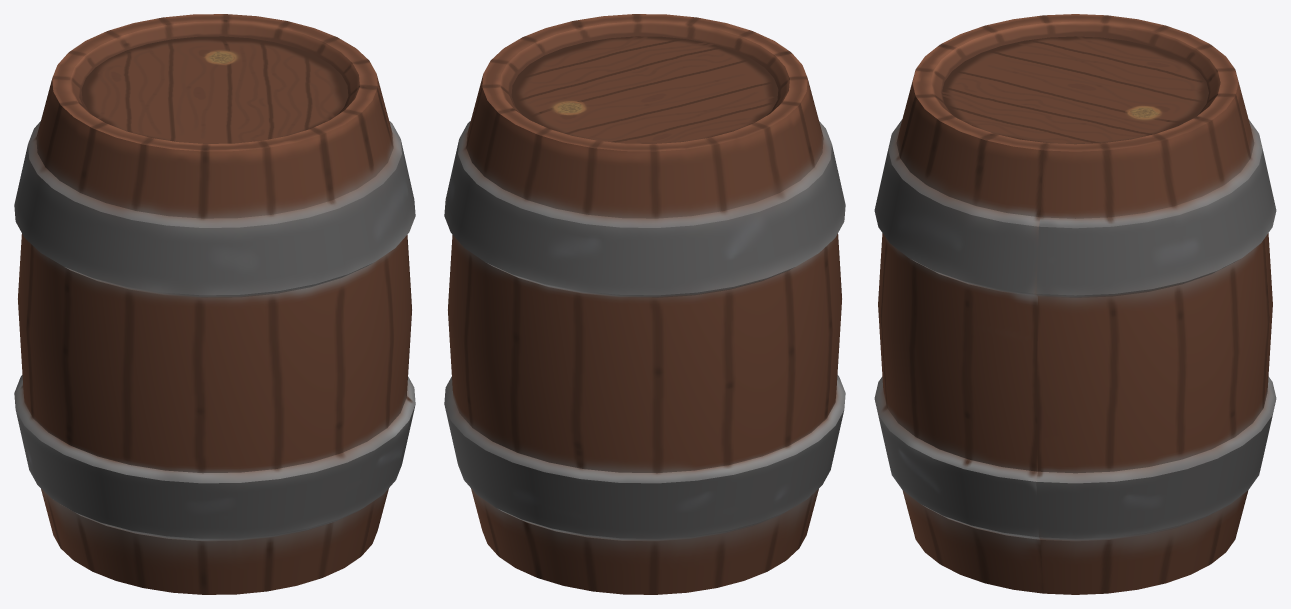
The model's file is barrel.fbx.
3 views of the same model, side by side, from view 1: azimuth 30°, elevation 25°; view 2: azimuth 150°, elevation 25°; view 3: azimuth 270°, elevation 25° (orthographic).
Visible parts, largest first — view 1: Cylinder.004; view 2: Cylinder.004; view 3: Cylinder.004.
Boxes of the visible parts, x1=… form: Cylinder.004: x1=14, y1=14, x2=415, y2=594; Cylinder.004: x1=444, y1=14, x2=845, y2=594; Cylinder.004: x1=874, y1=14, x2=1276, y2=594.
Size of the model in its own units: 284 by 345 by 284.
